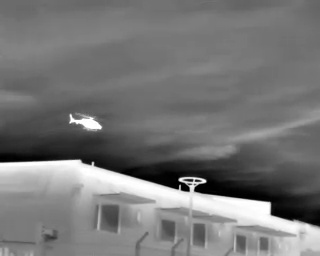HELICOPTER: (65, 106, 113, 138)
